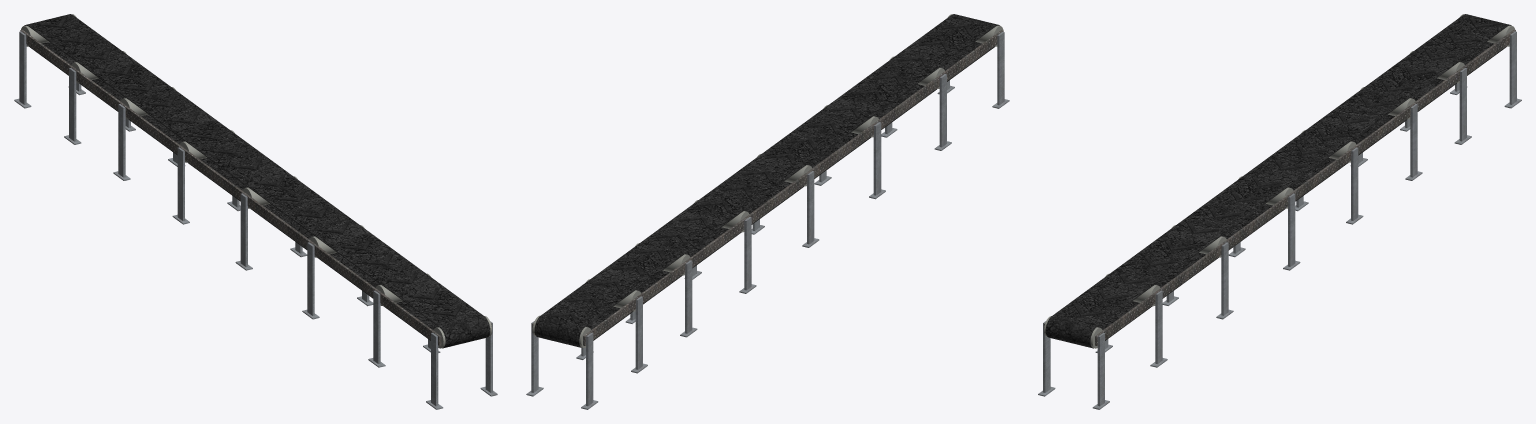
File: conveyor.gltf
The picture shows the model from 3 angles, left to right: view 1: azimuth 30°, elevation 25°; view 2: azimuth 150°, elevation 25°; view 3: azimuth 330°, elevation 25°; orthographic projection.
Visible parts, largest first — view 1: conveyor; view 2: conveyor; view 3: conveyor.
Boxes of the visible parts, x1=… form: conveyor: x1=14, y1=14, x2=497, y2=409; conveyor: x1=526, y1=14, x2=1009, y2=409; conveyor: x1=1038, y1=14, x2=1521, y2=409.
Size of the model in its own units: 0.7365 by 0.9 by 8.81.
1 material, 1 textured.
